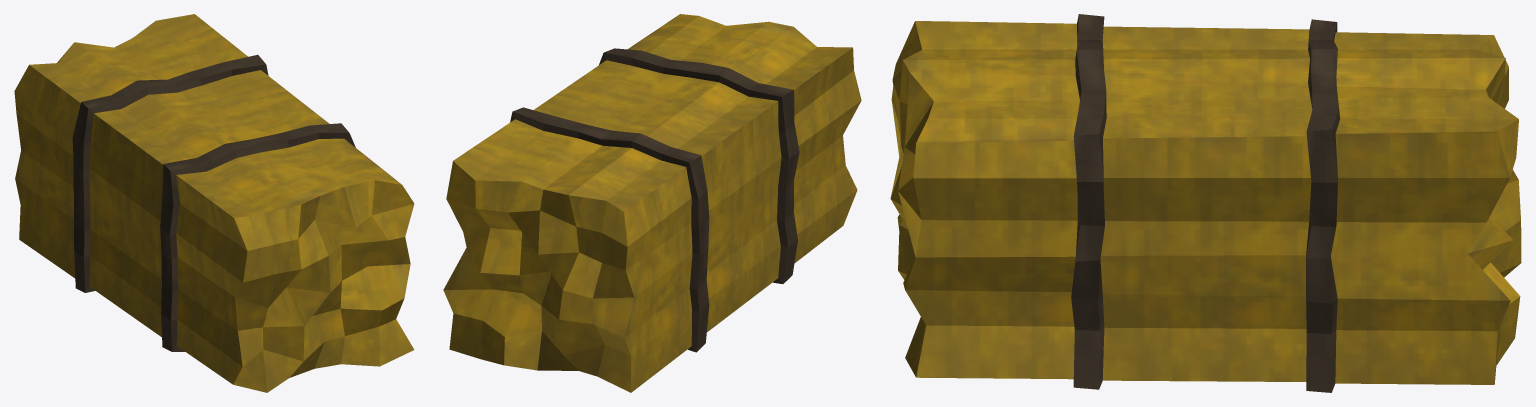
Rendered from Haybale.fbx.
The picture shows the model from 3 angles, left to right: view 1: azimuth 30°, elevation 25°; view 2: azimuth 150°, elevation 25°; view 3: azimuth 270°, elevation 25°; orthographic projection. The views are drawn at different scales.
Parts seen in each view (by area): view 1: hay bale; view 2: hay bale; view 3: hay bale.
Part boxes in pixels (x1,y1,x2,y2): hay bale: (14, 14, 414, 392); hay bale: (443, 14, 861, 392); hay bale: (890, 14, 1521, 392).
Bounding box in the file's own units: 229 × 225 × 481.
